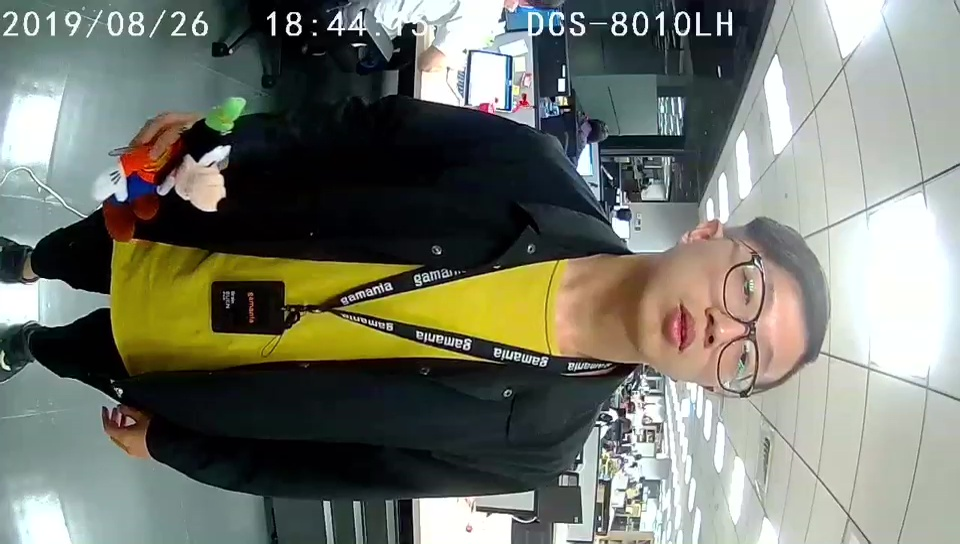goofy: (90, 94, 247, 242)
